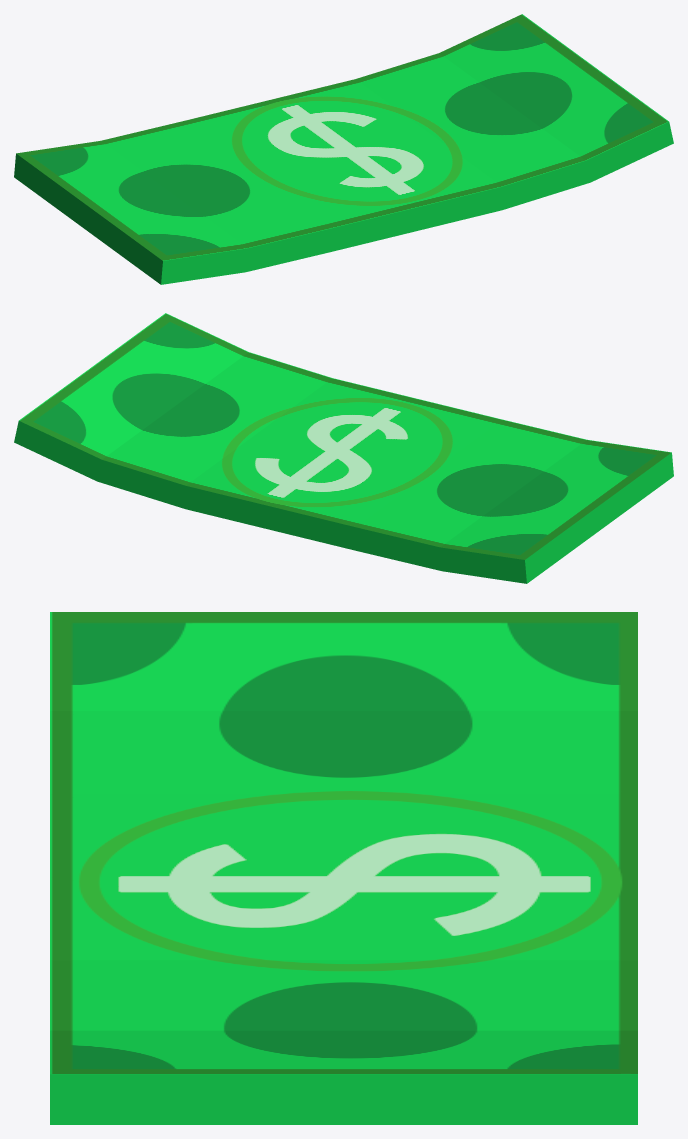
Rendered from SingleMoney.fbx.
The picture shows the model from 3 angles, top to bottom: view 1: azimuth 30°, elevation 25°; view 2: azimuth 150°, elevation 25°; view 3: azimuth 270°, elevation 25°; orthographic projection. The views are drawn at different scales.
Parts seen in each view (by area): view 1: MoneyTop; view 2: MoneyTop; view 3: MoneyTop.
Part boxes in pixels (x1=…): MoneyTop: x1=14, y1=14, x2=673, y2=284; MoneyTop: x1=14, y1=313, x2=673, y2=583; MoneyTop: x1=50, y1=612, x2=637, y2=1124.
Size of the model in its own units: 21.24 by 1.89 by 10.54.
